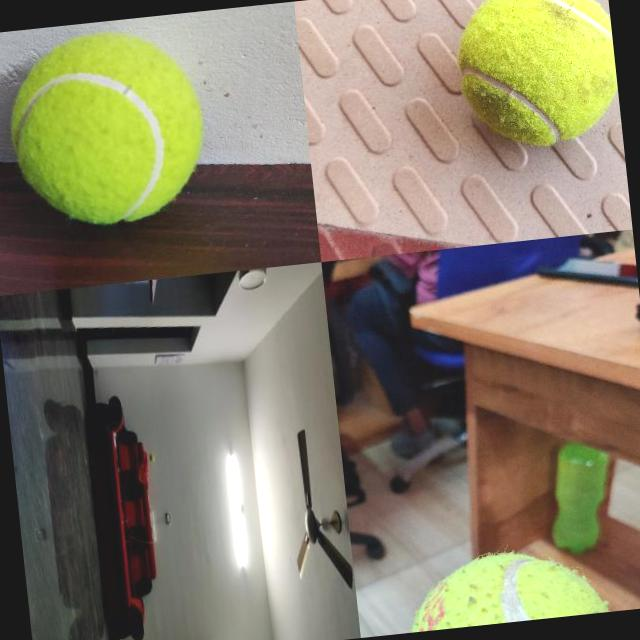Tennis Ball: (2, 22, 213, 234), (451, 0, 623, 153), (395, 541, 618, 632), (149, 454, 155, 462)
